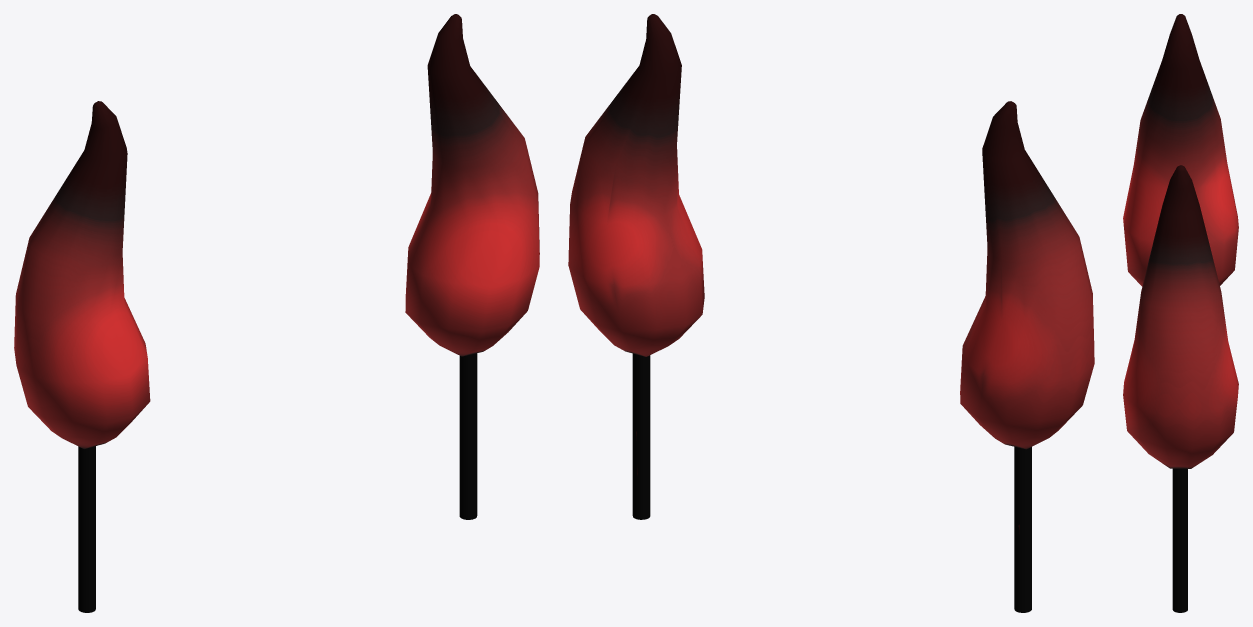
The model's file is Demon_Horns.fbx.
3 views of the same model, side by side, from view 1: azimuth 30°, elevation 25°; view 2: azimuth 150°, elevation 25°; view 3: azimuth 270°, elevation 25° (orthographic). The views are drawn at different scales.
Visible parts, largest first — view 1: Demons_Horns; view 2: Demons_Horns; view 3: Demons_Horns.
Part boxes in pixels (x1=…): Demons_Horns: x1=14, y1=14, x2=539, y2=612; Demons_Horns: x1=568, y1=14, x2=1094, y2=612; Demons_Horns: x1=1123, y1=14, x2=1238, y2=612.
Bounding box in the file's own units: 80.51 × 76.36 × 18.28.
